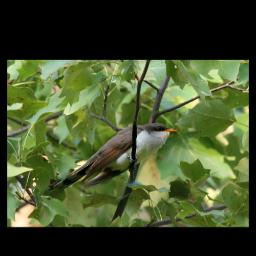Cuckoo: (43, 120, 177, 191)
